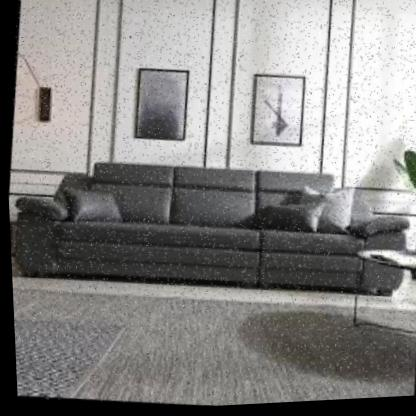Sofa: (6, 141, 416, 320)
